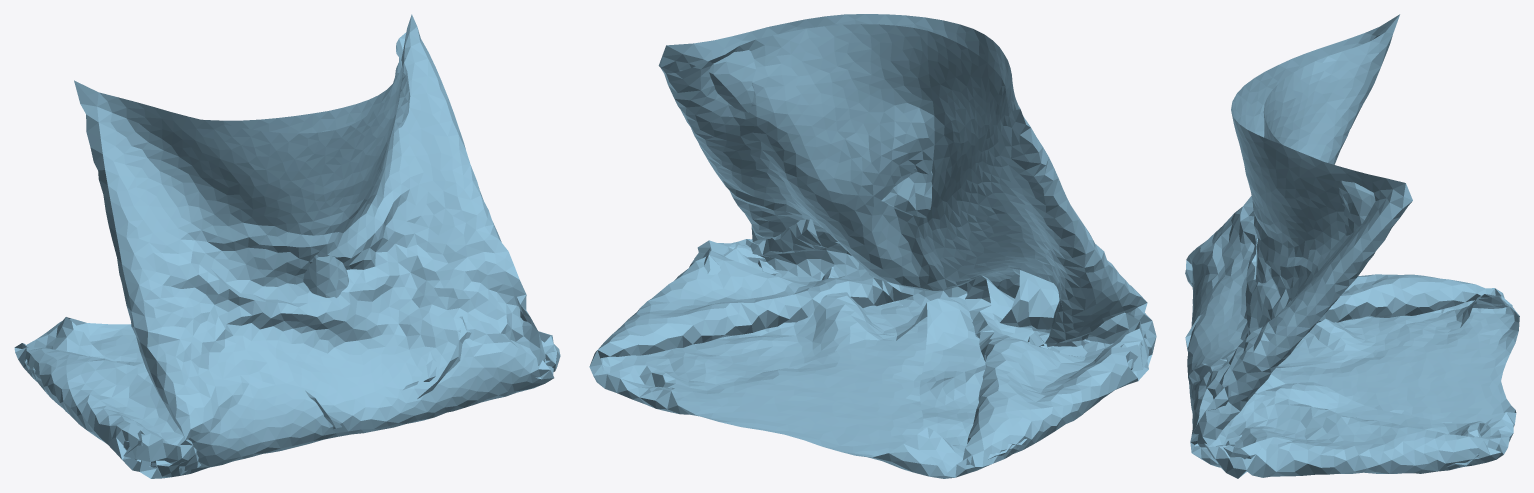
Rendered from frame_15.glb.
The picture shows the model from 3 angles, left to right: view 1: azimuth 30°, elevation 25°; view 2: azimuth 150°, elevation 25°; view 3: azimuth 270°, elevation 25°; orthographic projection. The views are drawn at different scales.
Visible parts, largest first — view 1: frame_15.obj; view 2: frame_15.obj; view 3: frame_15.obj.
Part boxes in pixels (x1,y1,x2,y2): frame_15.obj: (14, 14, 560, 478); frame_15.obj: (589, 14, 1156, 478); frame_15.obj: (1185, 14, 1519, 478).
Size of the model in its own units: 1.21 by 0.8628 by 0.8823.
